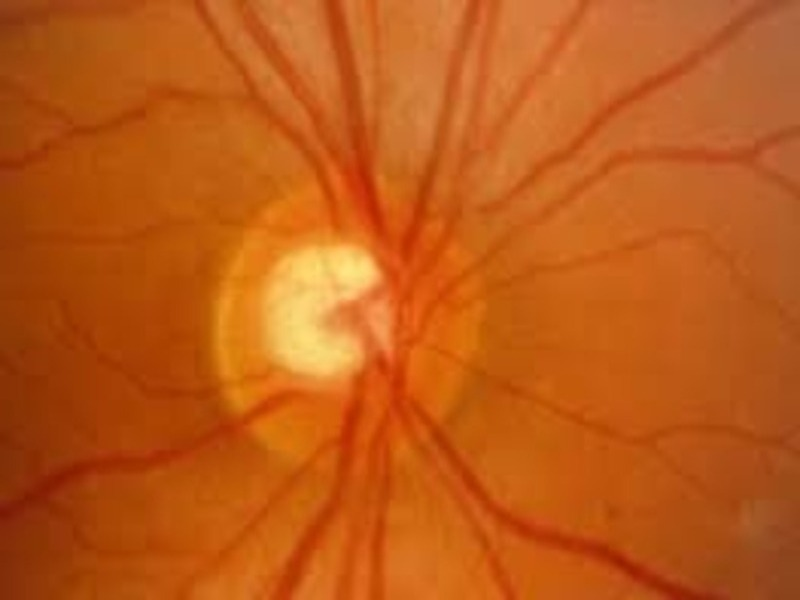Optic Cup: (261, 246, 384, 375)
Optic Disc: (213, 171, 498, 471)
